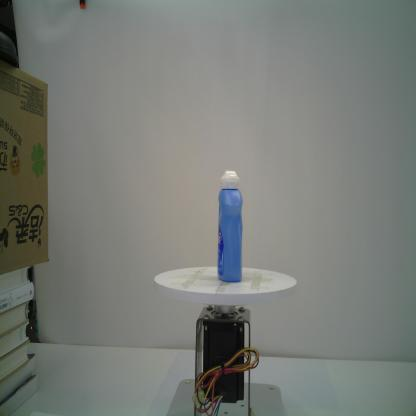Personal Hygiene: (214, 169, 245, 283)
